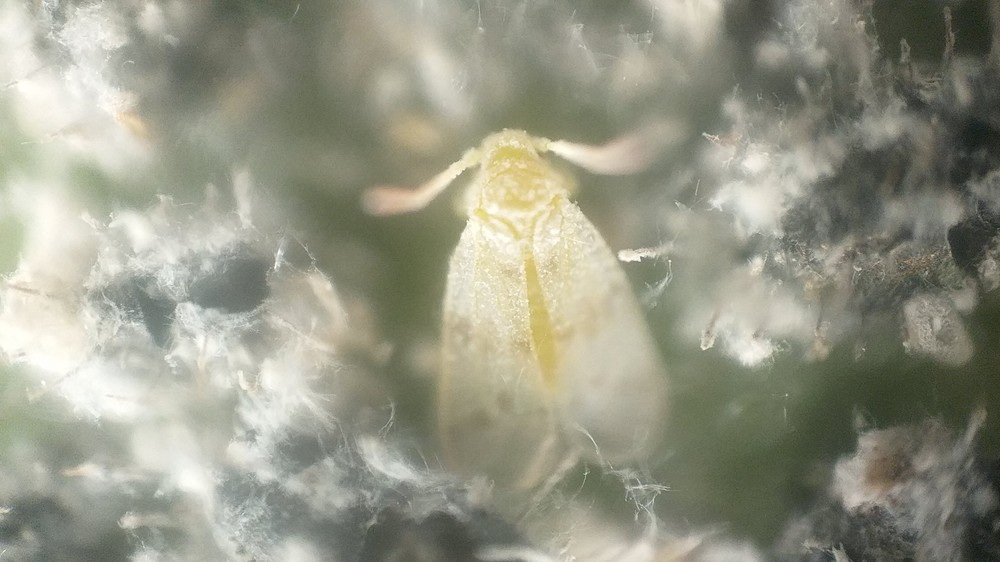Mosca Blanca: (353, 107, 715, 492)
